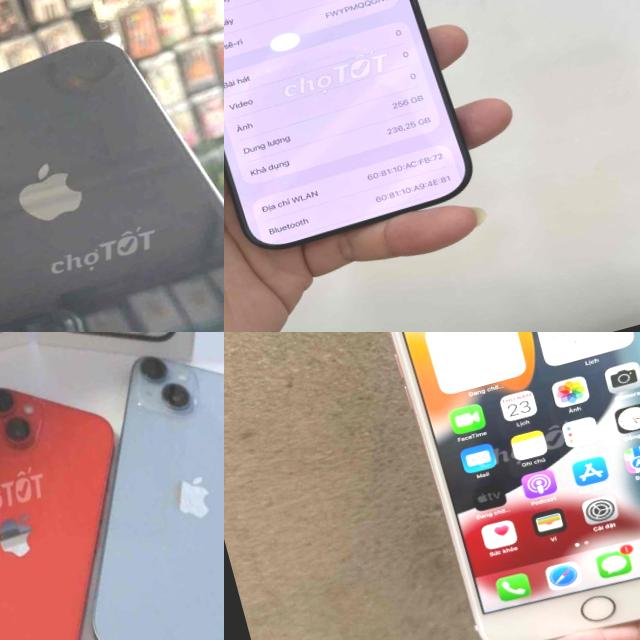gen_14: (27, 332, 224, 640)
gen_16: (224, 0, 470, 246)
gen_7_8: (351, 332, 640, 640)
gen_x_xs: (0, 0, 224, 332)
